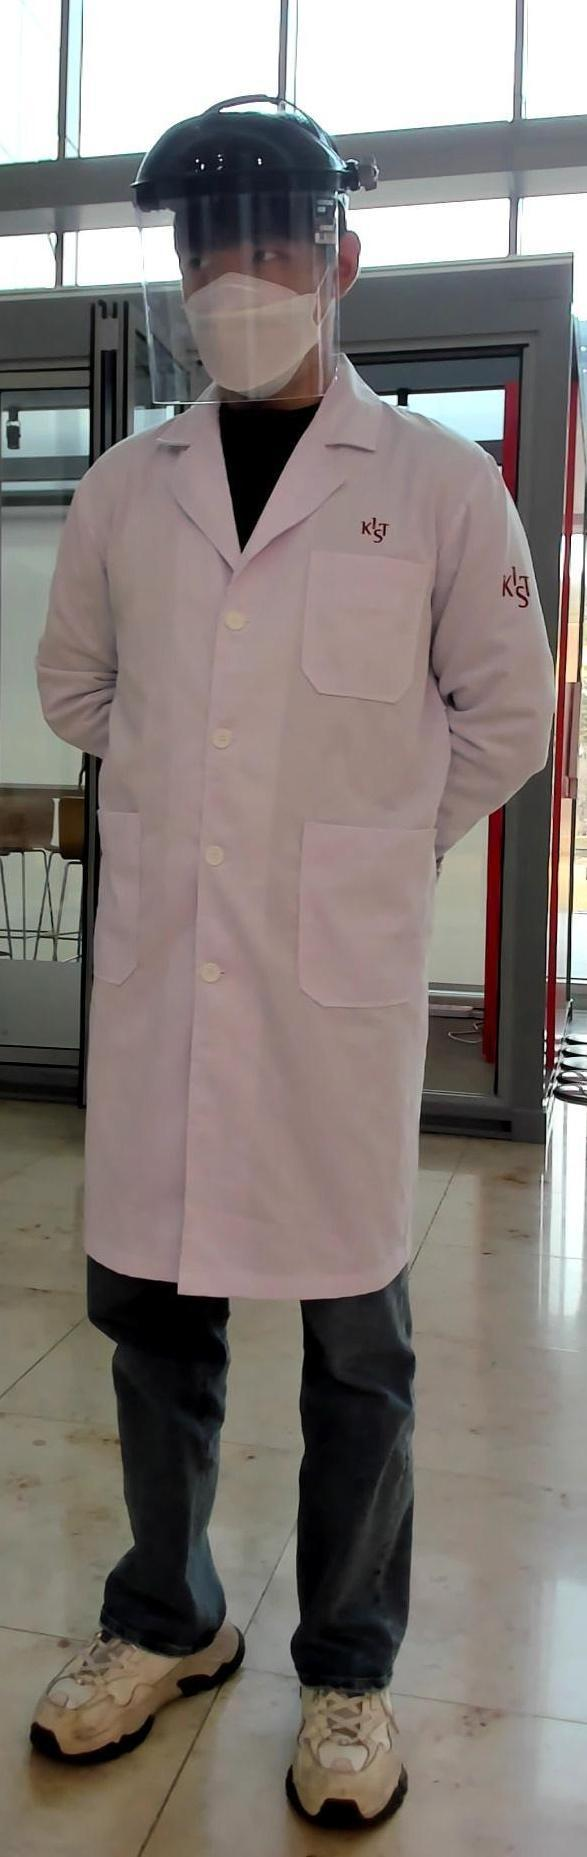lab_coat: (27, 431, 557, 1281)
